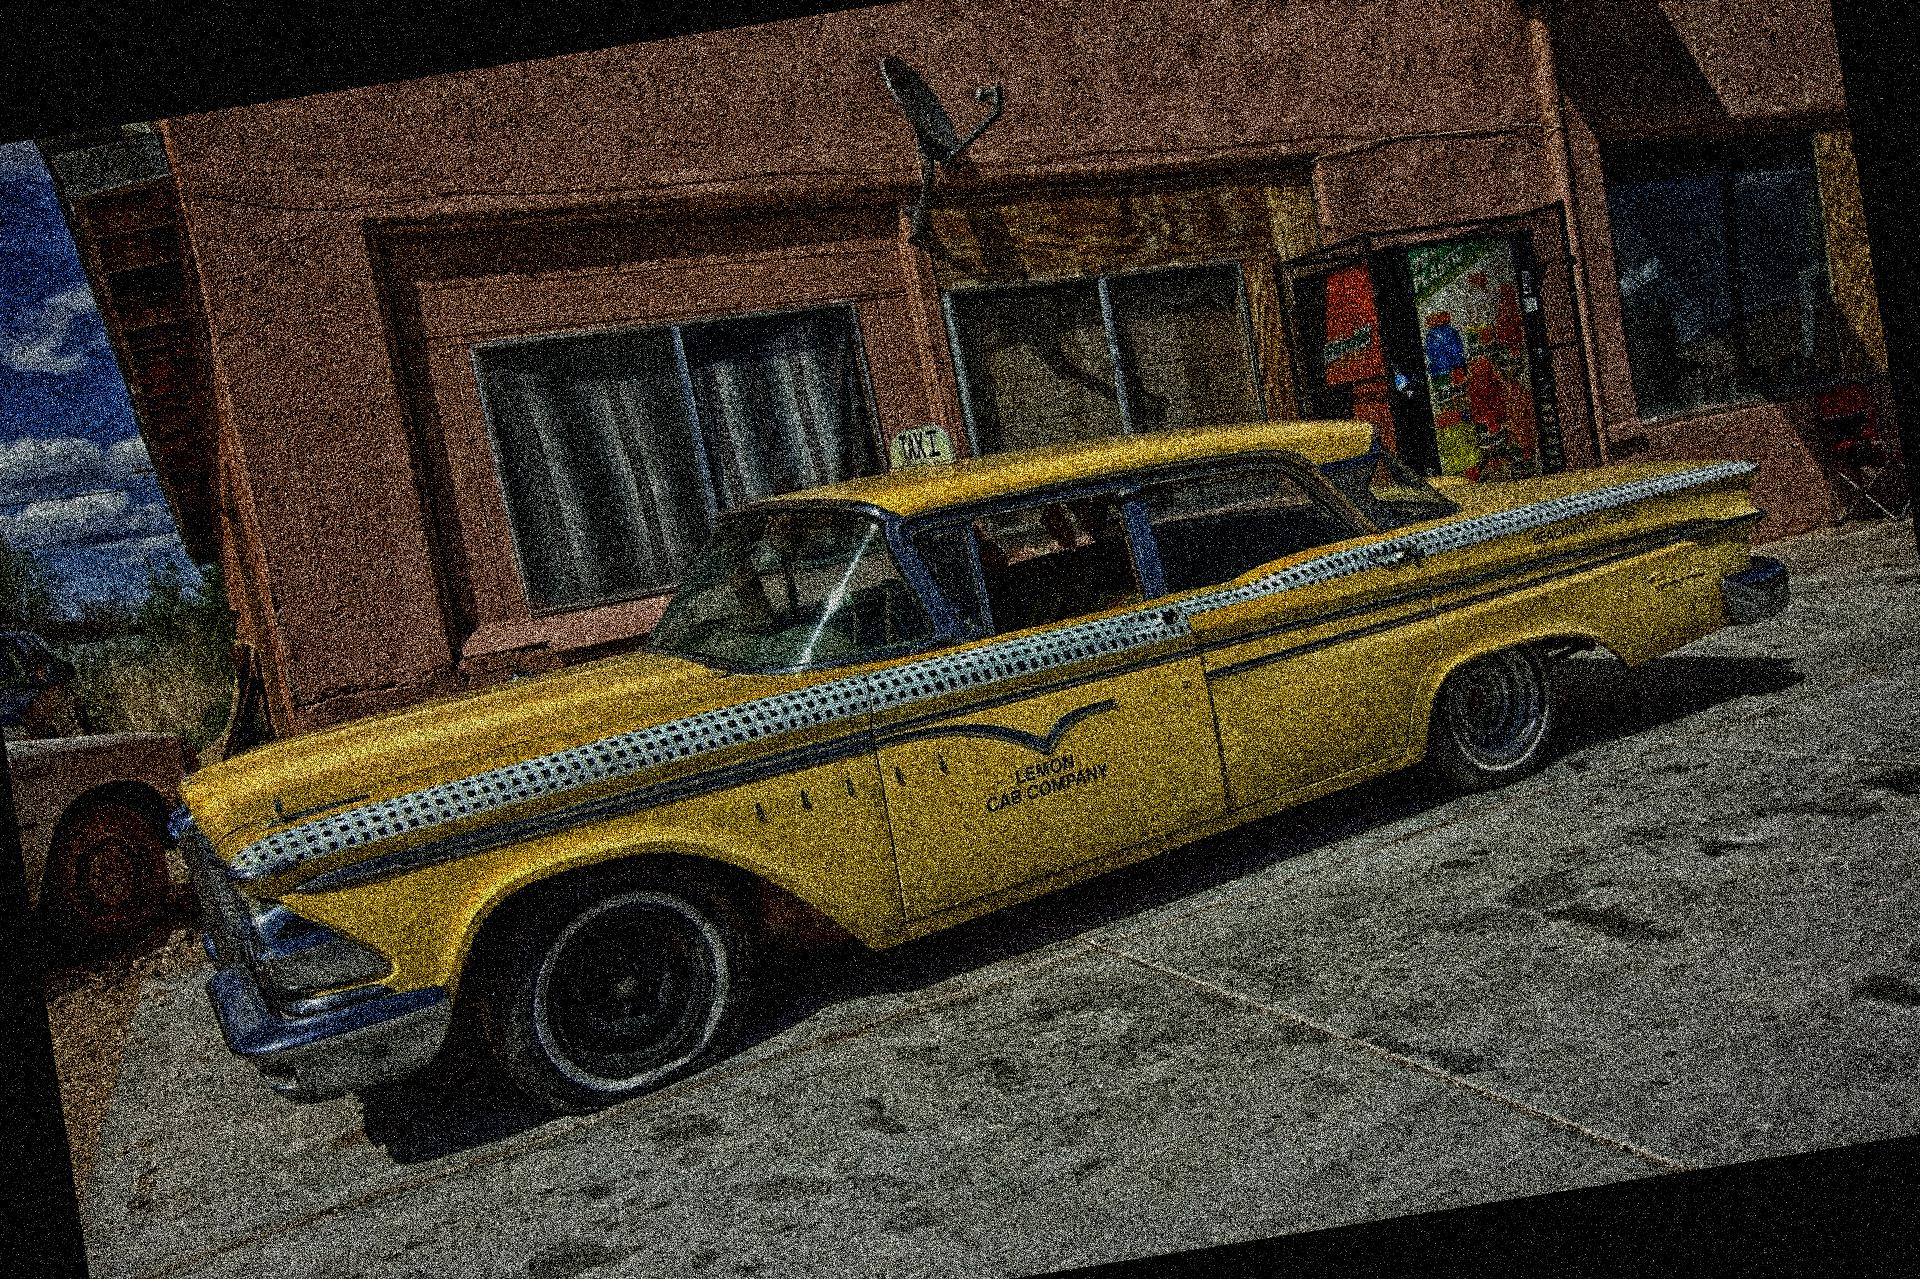taxi: (164, 414, 1817, 1141)
